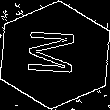M_E: (25, 30, 85, 80)
